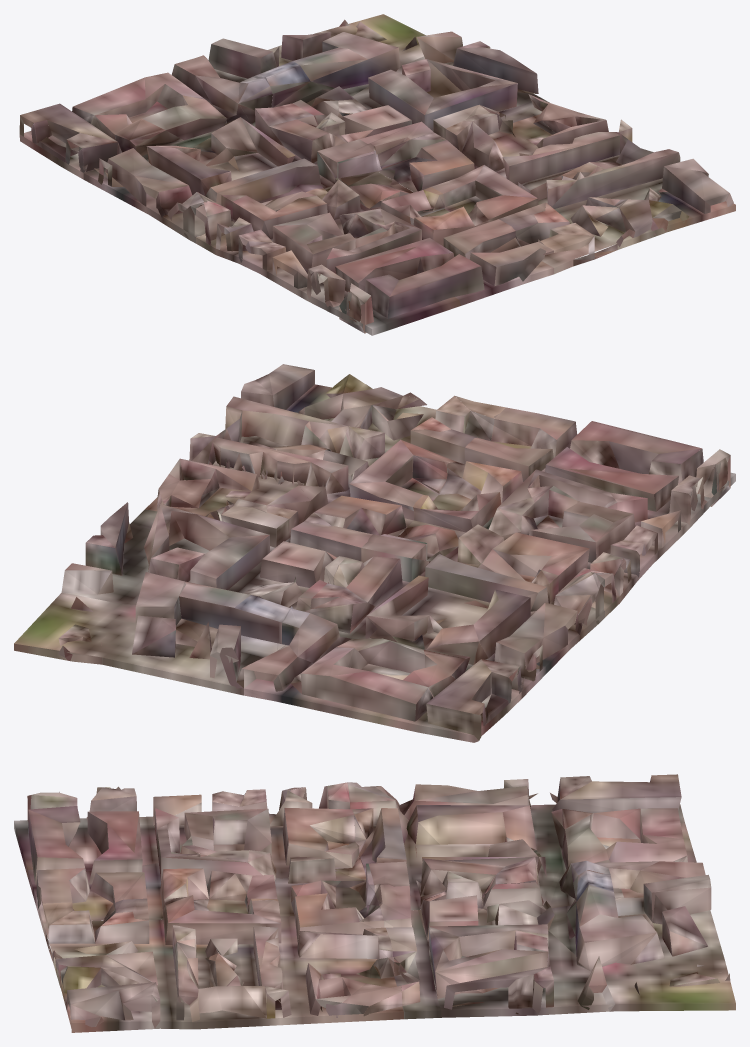
The picture shows the model from 3 angles, top to bottom: view 1: azimuth 30°, elevation 25°; view 2: azimuth 150°, elevation 25°; view 3: azimuth 270°, elevation 25°; orthographic projection. The views are drawn at different scales.
Parts seen in each view (by area): view 1: Mesh_0; view 2: Mesh_0; view 3: Mesh_0.
Part boxes in pixels (left/top/right/bottom): Mesh_0: left=19, top=14, right=735, bottom=335; Mesh_0: left=14, top=364, right=735, bottom=742; Mesh_0: left=14, top=774, right=735, bottom=1032.
Bounding box in the file's own units: 540 × 54.63 × 659.
2 materials, 2 textured.
